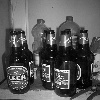beer: (5, 30, 32, 98)
